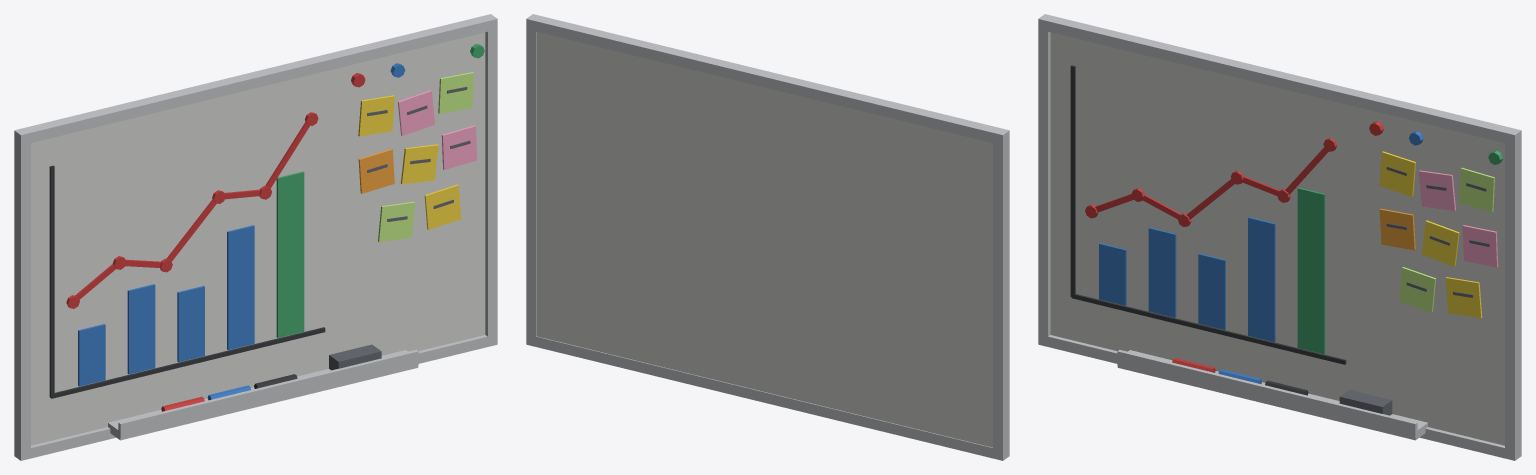
File: office_whiteboard.glb
3 views of the same model, side by side, from view 1: azimuth 30°, elevation 25°; view 2: azimuth 150°, elevation 25°; view 3: azimuth 330°, elevation 25° (orthographic).
Visible parts, largest first — view 1: office_whiteboard; view 2: office_whiteboard; view 3: office_whiteboard.
Part boxes in pixels (left/top/right/bottom): office_whiteboard: left=14, top=14, right=497, bottom=460; office_whiteboard: left=526, top=14, right=1009, bottom=460; office_whiteboard: left=1038, top=14, right=1521, bottom=460.
Bounding box in the file's own units: 1.44 × 0.94 × 0.0885.
